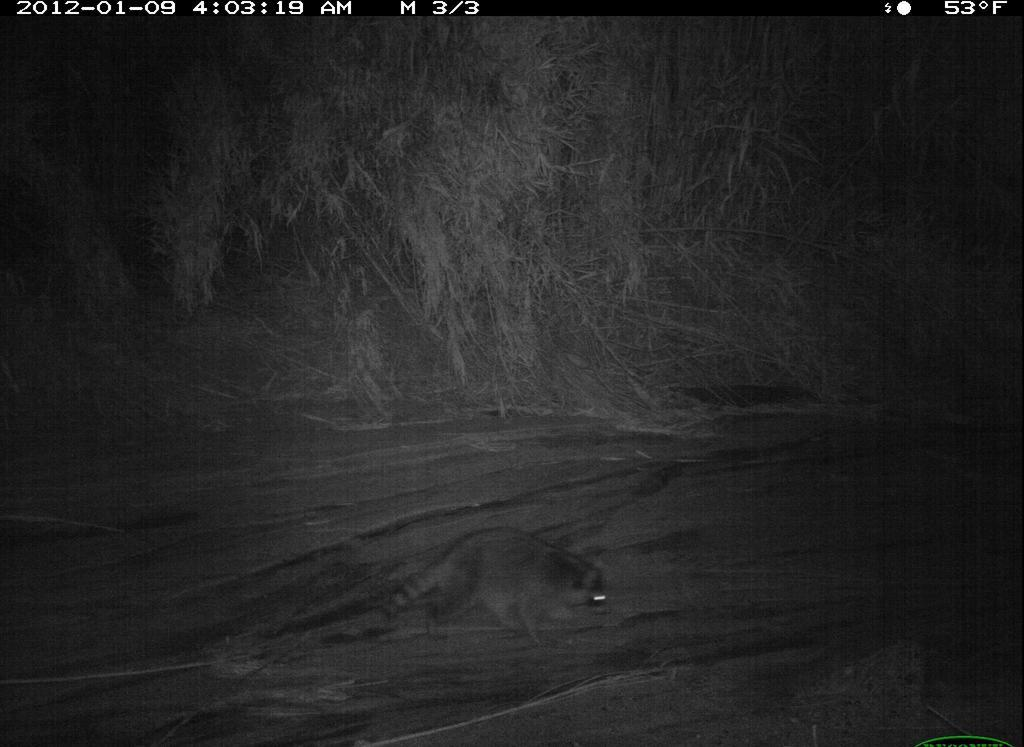raccoon: (367, 516, 625, 656)
